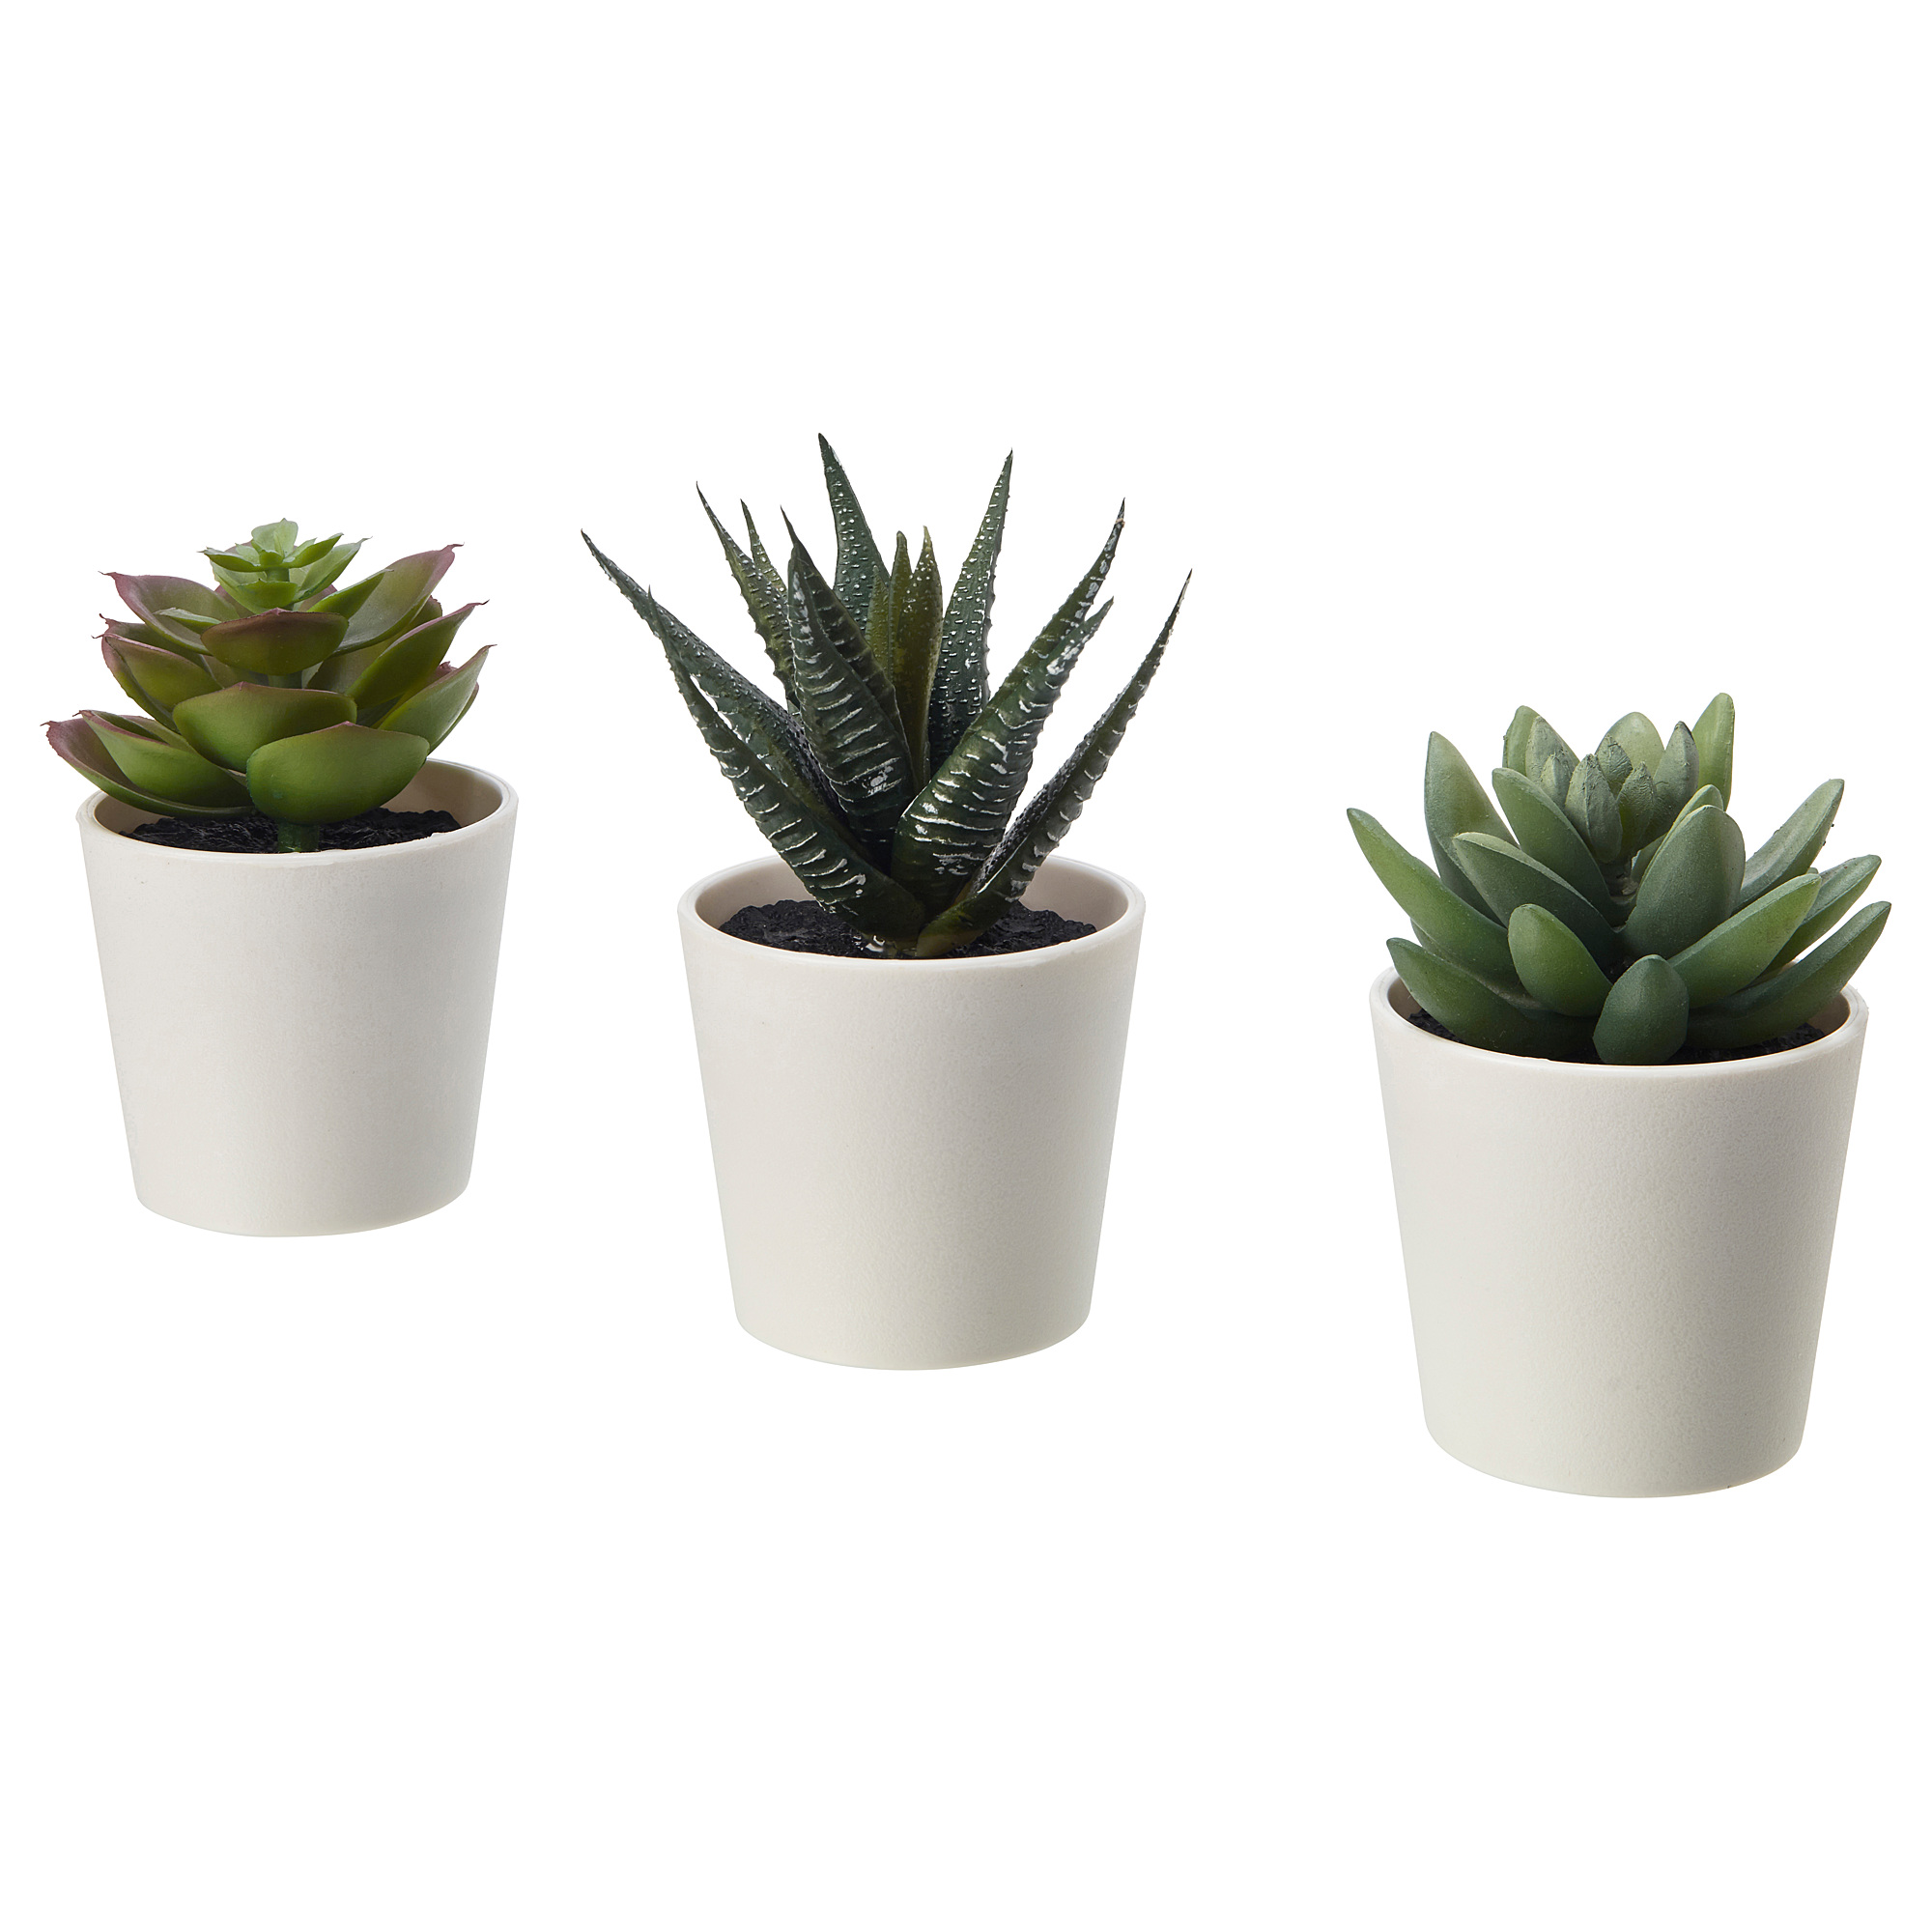tanaman: (573, 476, 1182, 1470), (1350, 665, 1865, 1562), (53, 513, 531, 1247)
